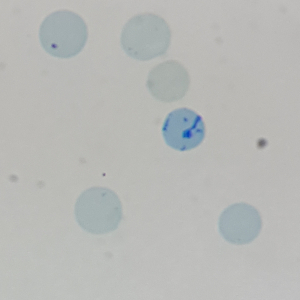aggregate reticulocyte: (160, 105, 207, 153)
erythrocyte: (37, 7, 90, 60), (144, 58, 192, 105), (216, 201, 265, 247)
punctate reticulocyte: (118, 12, 175, 63), (73, 185, 125, 236)
